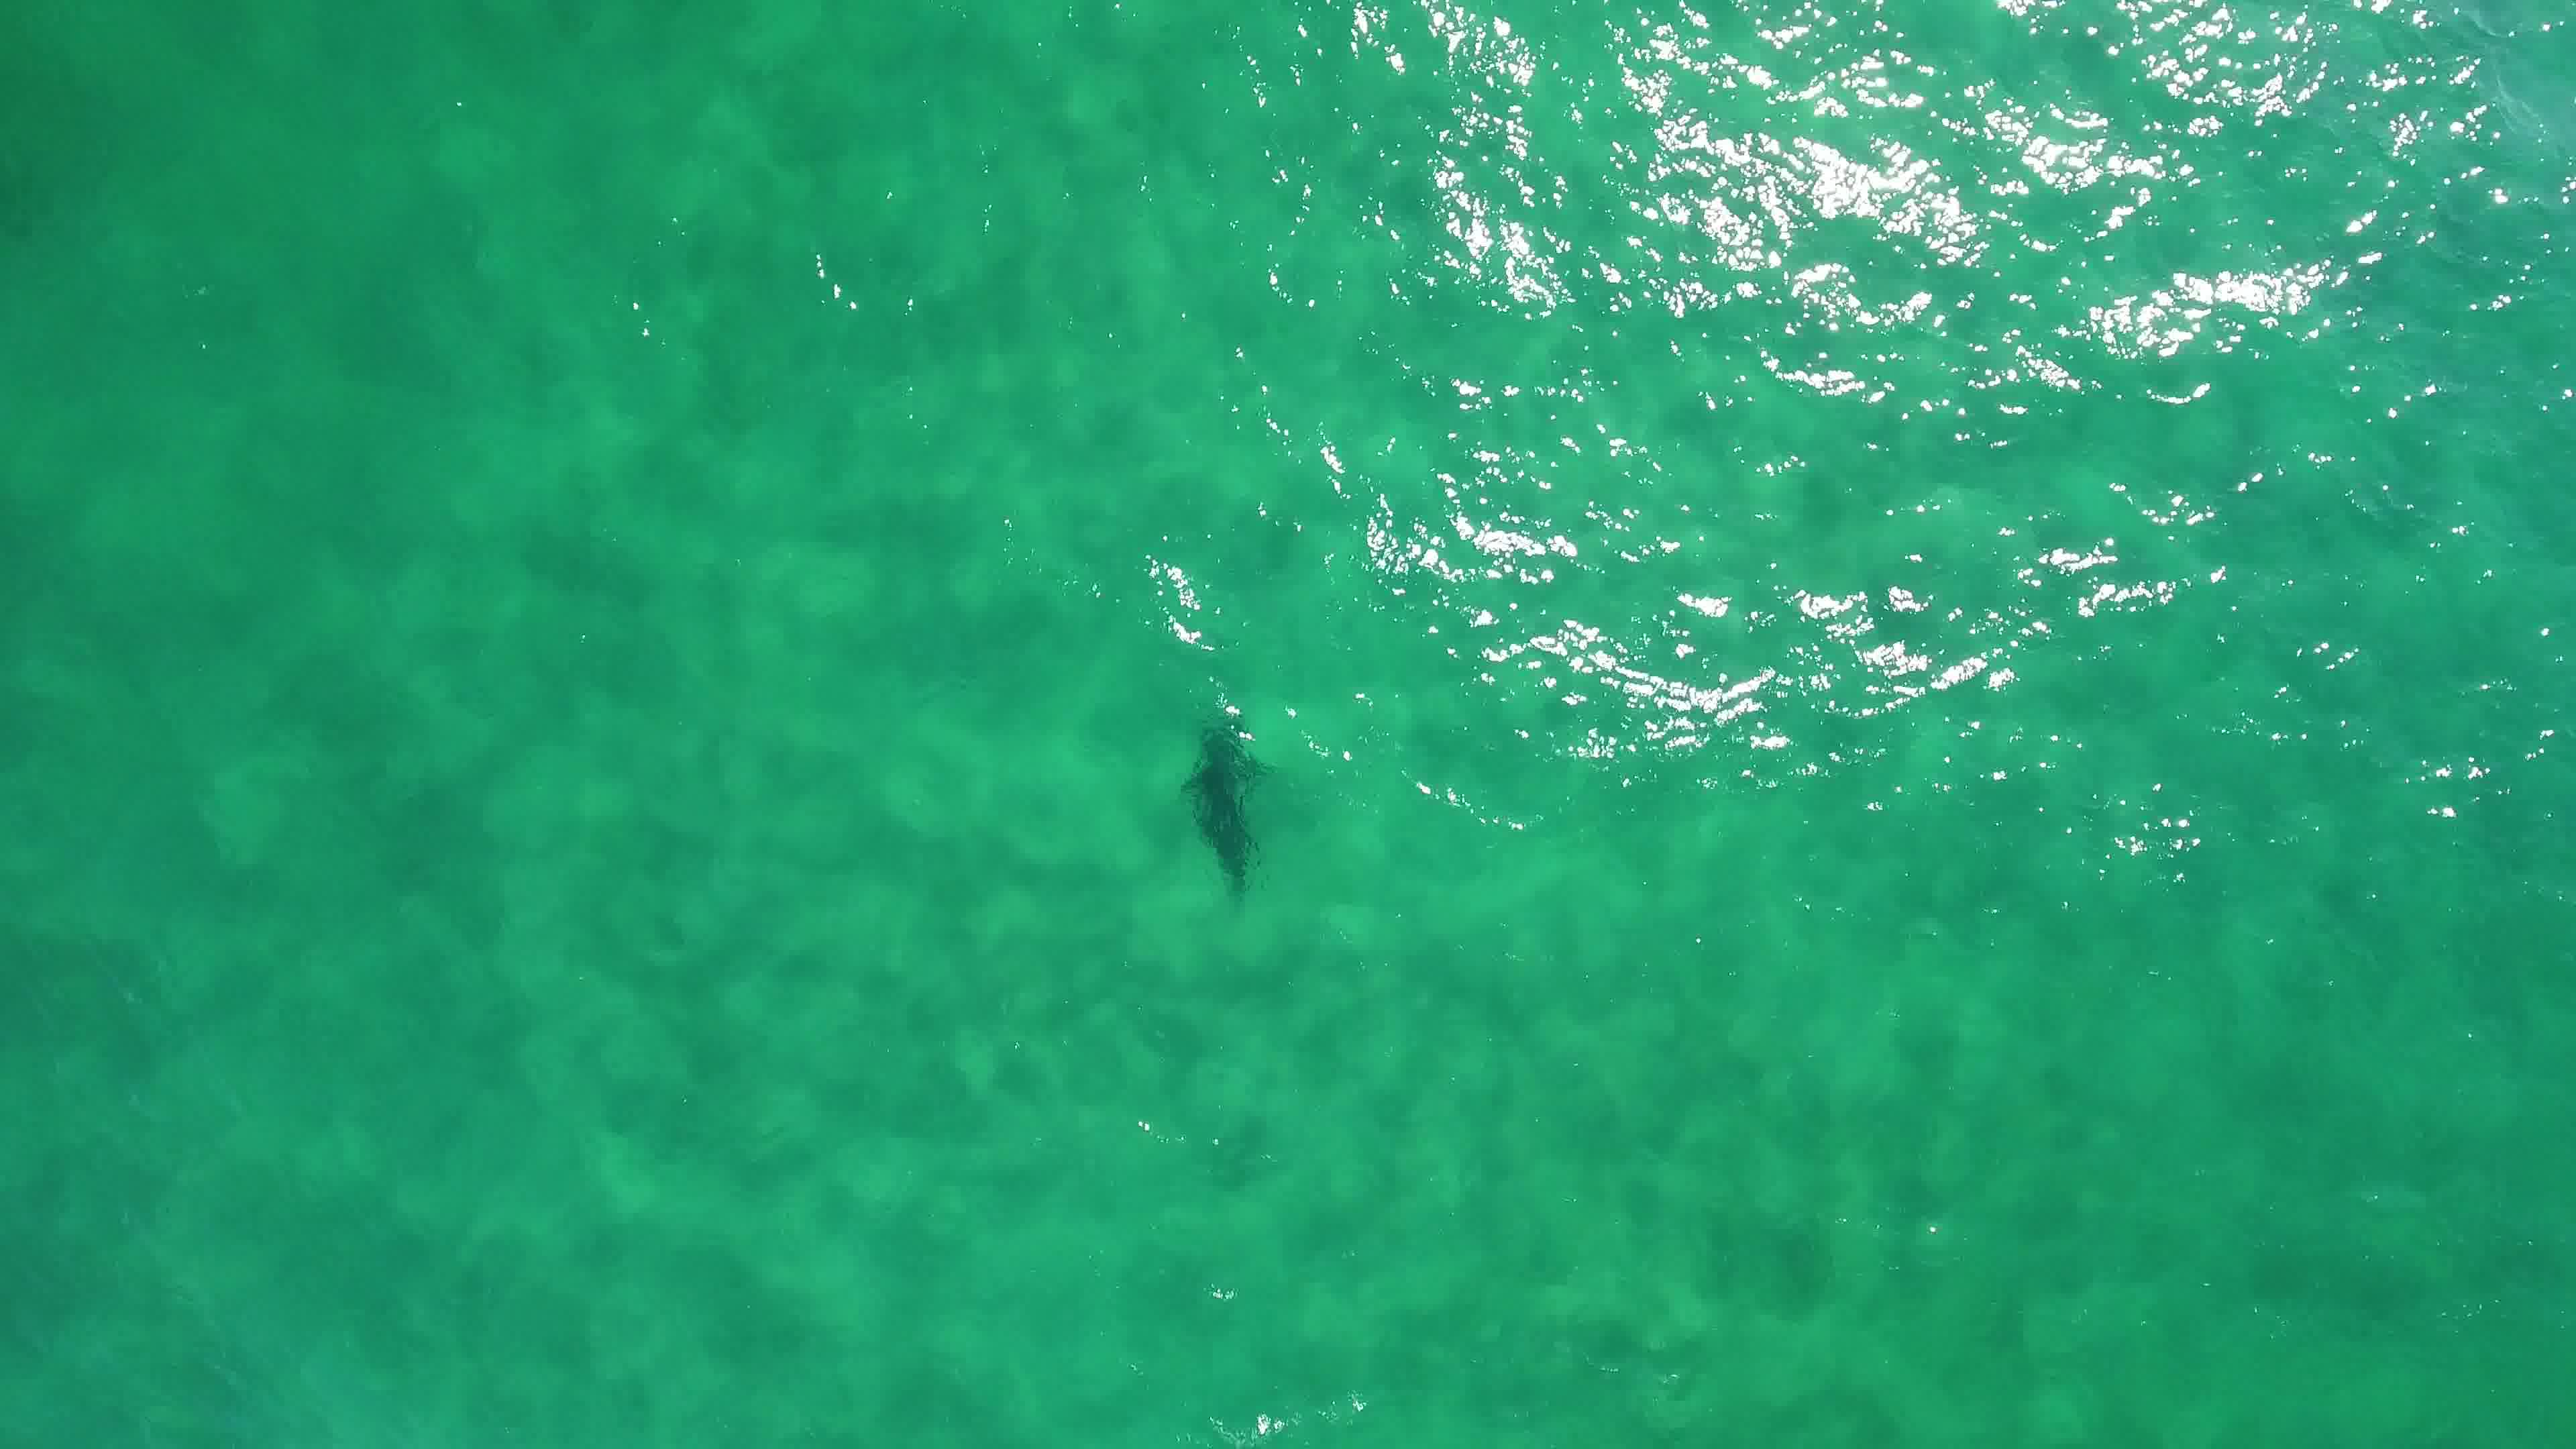shark: (1171, 709, 1277, 908)
